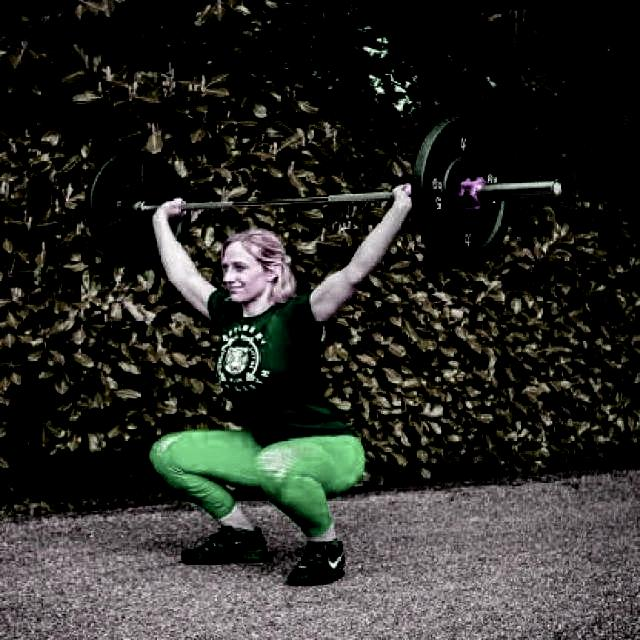barbell: (412, 113, 565, 280)
